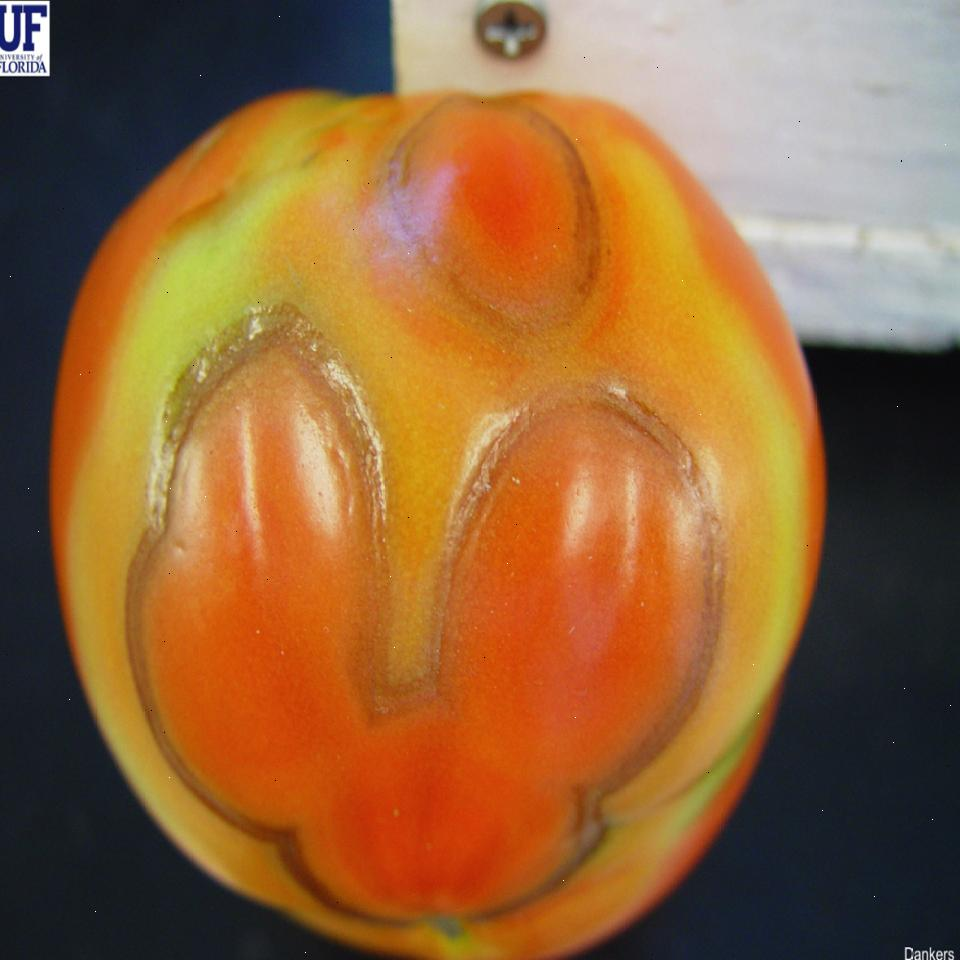Spotted wilt Virus: (53, 90, 824, 960)
